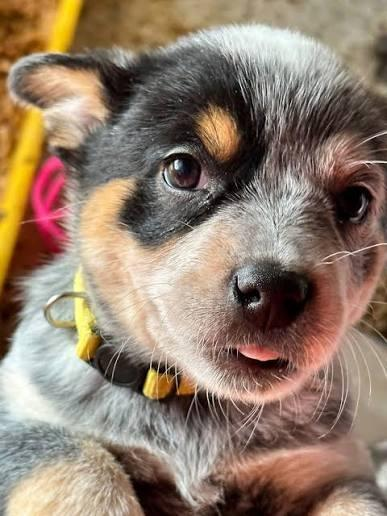puppy-dog: (0, 21, 387, 516)
